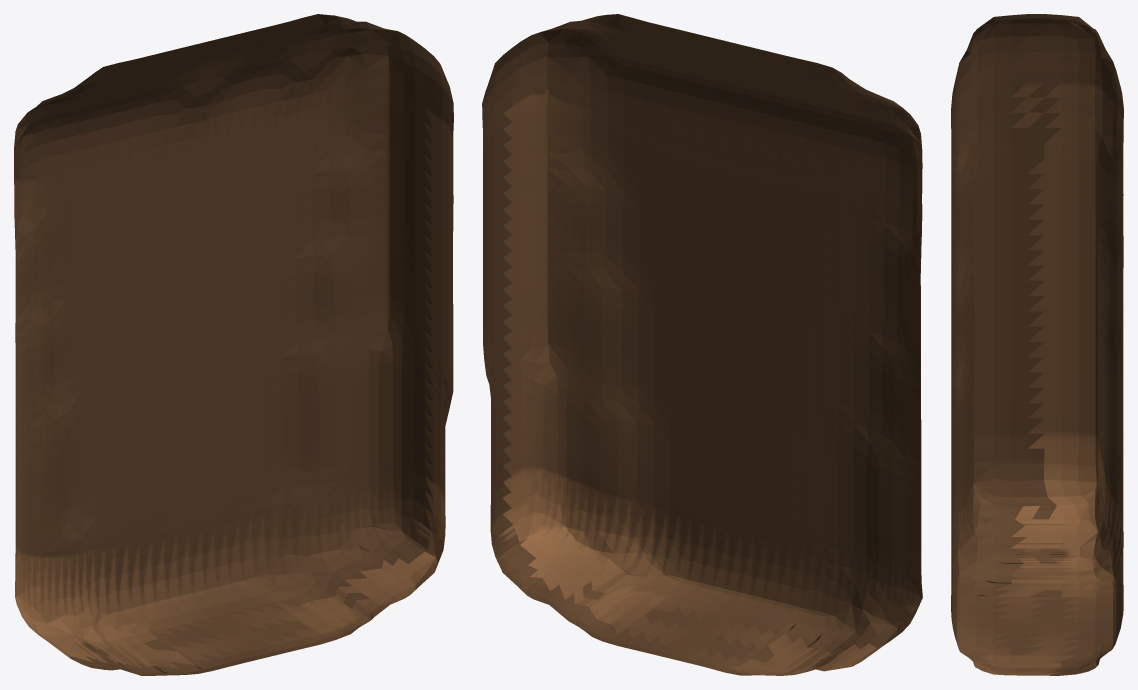
The picture shows the model from 3 angles, left to right: view 1: azimuth 30°, elevation 25°; view 2: azimuth 150°, elevation 25°; view 3: azimuth 270°, elevation 25°; orthographic projection. The views are drawn at different scales.
Parts seen in each view (by area): view 1: model; view 2: model; view 3: model.
Part boxes in pixels (x1,y1,x2,y2): model: (14, 14, 453, 675); model: (482, 14, 922, 675); model: (951, 14, 1123, 675).
Size of the model in its own units: 0.698 by 1 by 0.2816.
1 material, 1 textured.
